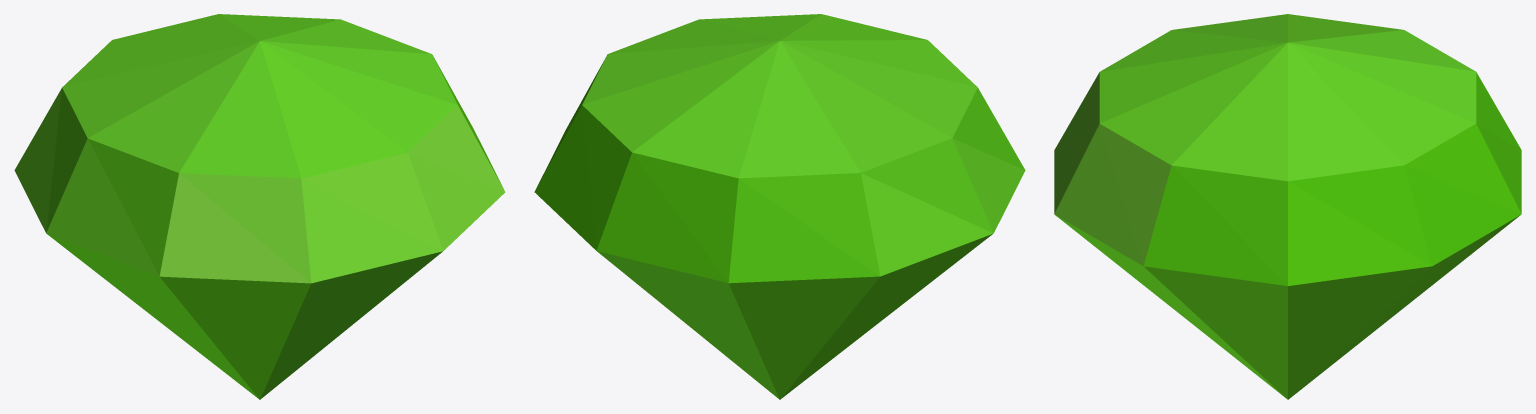
The model's file is prop_treasure_gem_emerald_1.fbx.
3 views of the same model, side by side, from view 1: azimuth 30°, elevation 25°; view 2: azimuth 150°, elevation 25°; view 3: azimuth 270°, elevation 25° (orthographic).
Visible parts, largest first — view 1: prop_treasure_gem_emerald_1; view 2: prop_treasure_gem_emerald_1; view 3: prop_treasure_gem_emerald_1.
Part boxes in pixels (box(x1,y1,x2,y2)): prop_treasure_gem_emerald_1: box(14, 14, 505, 399); prop_treasure_gem_emerald_1: box(534, 14, 1025, 399); prop_treasure_gem_emerald_1: box(1054, 14, 1521, 399).
Size of the model in its own units: 0.5011 by 0.4021 by 0.4766.
